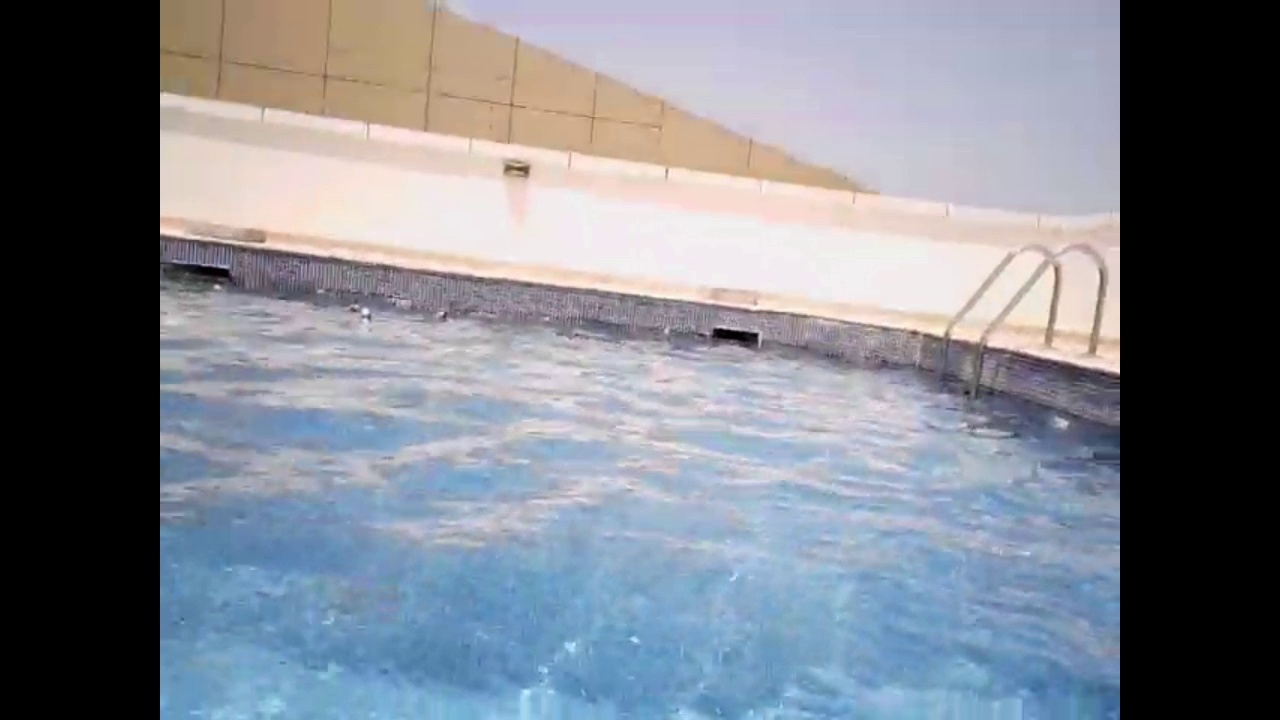debris: (341, 297, 366, 318), (430, 304, 450, 325), (357, 303, 373, 323), (658, 321, 674, 341), (210, 279, 226, 293)
